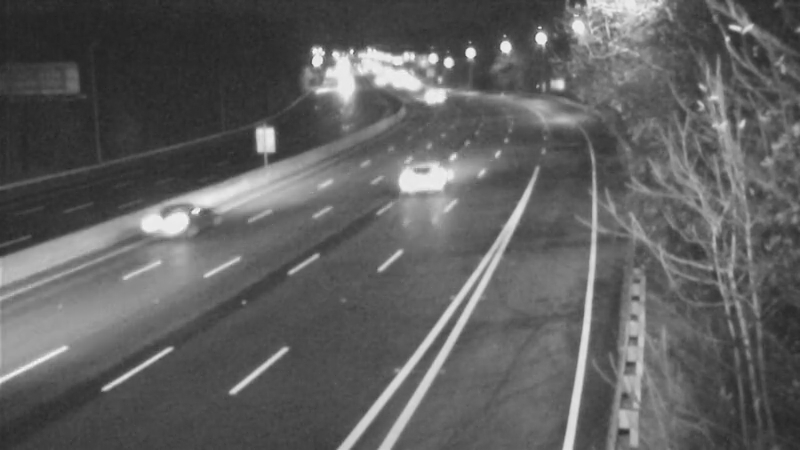vehicle: (395, 130, 475, 210), (133, 183, 213, 263), (409, 74, 459, 124)
